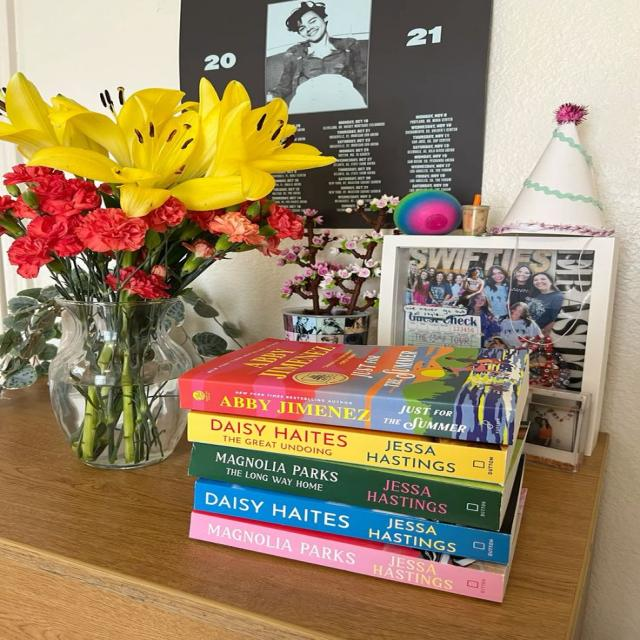book: (0, 72, 334, 468), (187, 512, 503, 603), (188, 443, 501, 531), (194, 481, 511, 565), (188, 412, 507, 484), (178, 378, 514, 445)
